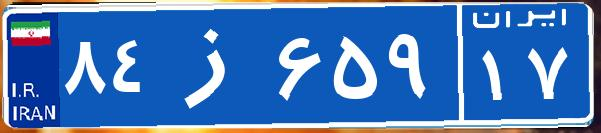1: (475, 38, 525, 113)
4: (110, 28, 158, 105)
5: (330, 28, 385, 110)
6: (273, 28, 330, 110)
7: (525, 38, 570, 115)
8: (57, 26, 110, 107)
9: (385, 28, 445, 110)
ز: (158, 15, 273, 115)
